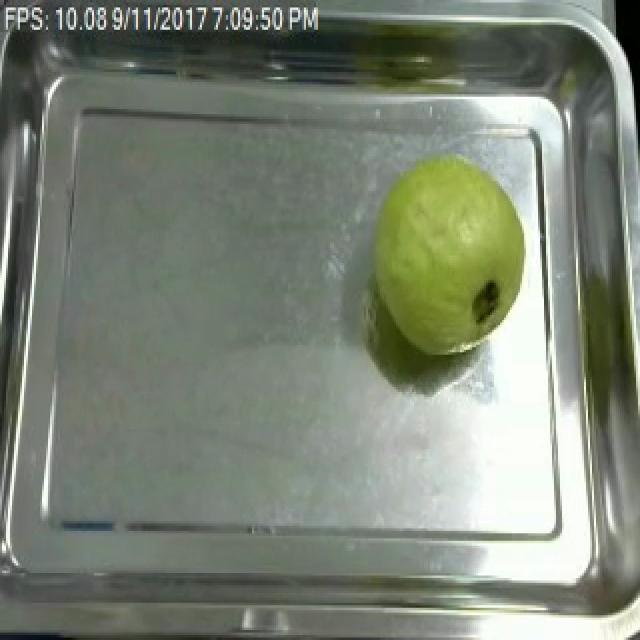Fruit: (358, 144, 544, 365)
